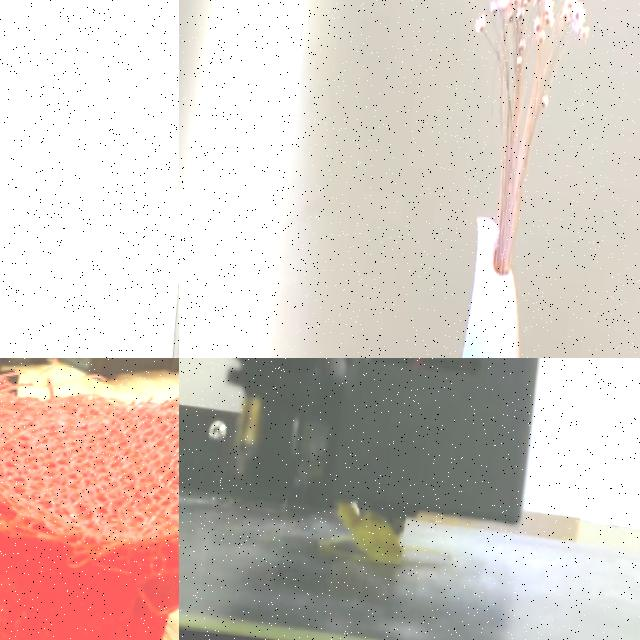spaghetti: (68, 493, 179, 633), (322, 500, 403, 564)
